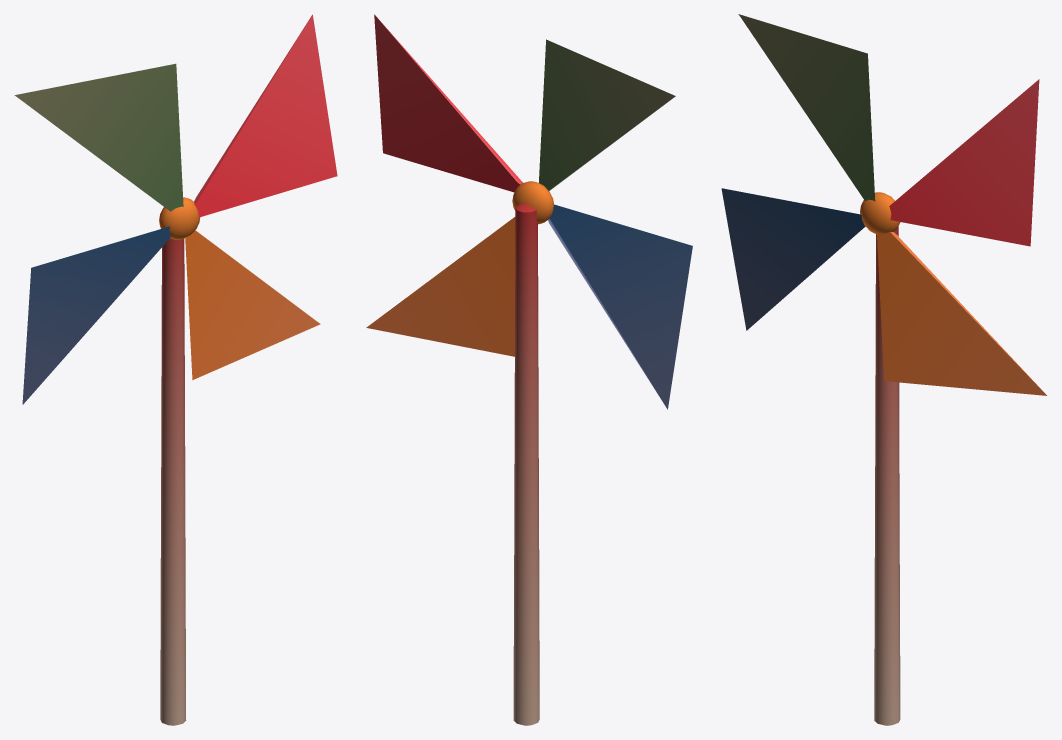
File: pinwheel.glb
3 views of the same model, side by side, from view 1: azimuth 30°, elevation 25°; view 2: azimuth 150°, elevation 25°; view 3: azimuth 330°, elevation 25° (orthographic).
Visible parts, largest first — view 1: blades, Haste; view 2: blades, Haste; view 3: blades, Haste.
Boxes of the visible parts, x1,y1,x2,y2 form: blades: [14, 14, 337, 404]; Haste: [160, 238, 186, 725]; blades: [366, 14, 692, 409]; Haste: [513, 203, 539, 725]; blades: [721, 14, 1046, 395]; Haste: [874, 226, 900, 725].
Size of the model in its own units: 1.9 by 3.98 by 0.2146.
